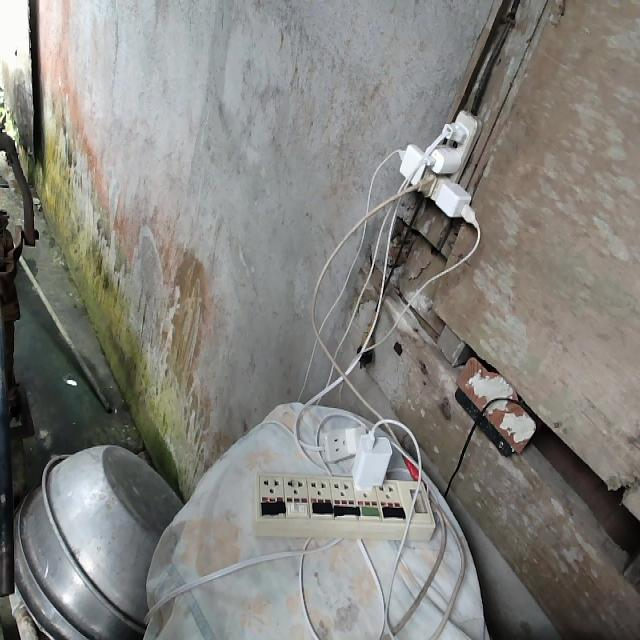-: (397, 109, 480, 224)
